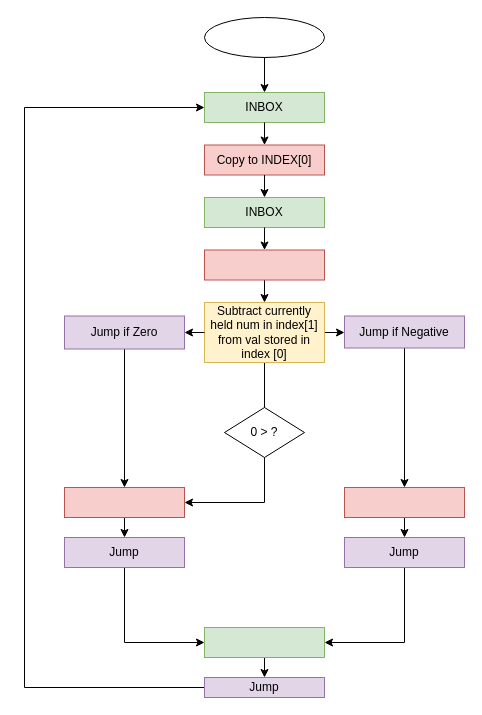
Image size: 482x715. Some labels were removed from this diagram. The centre of each missing label's shape, as x and y in pixels:
"Copy from index [0]" goes at pixel 404 502.
"Copy from index [1]" goes at pixel 124 502.
"Copy to INDEX [1]" goes at pixel 264 264.
"OUTBOX" goes at pixel 264 642.
"Start" goes at pixel 264 37.
